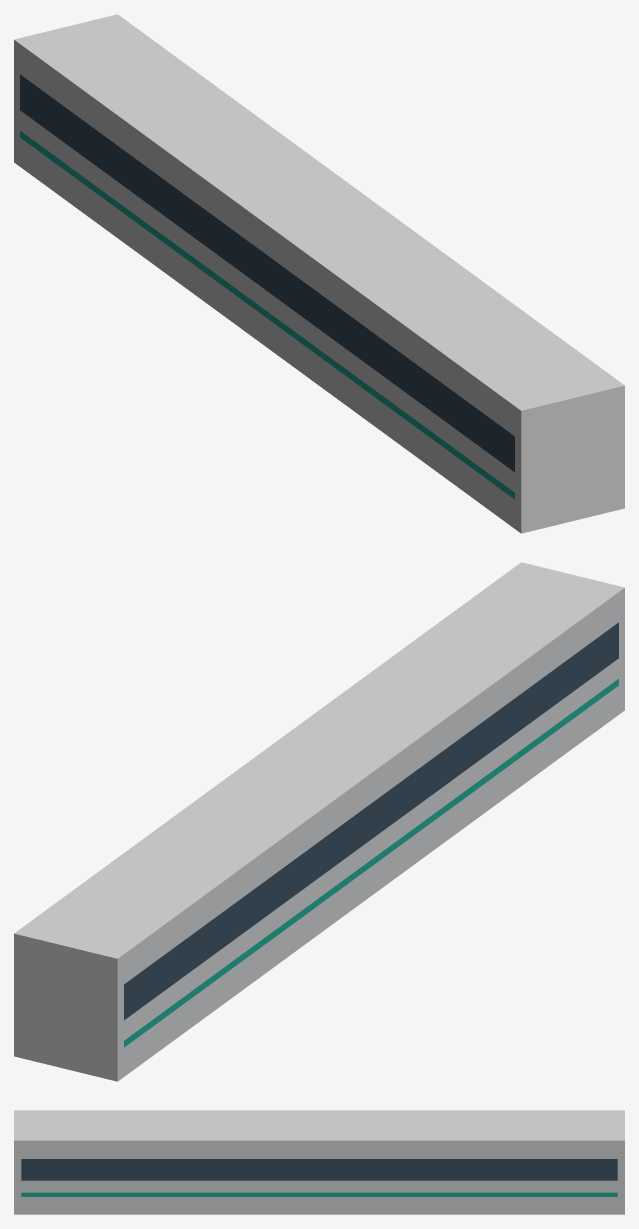
The model's file is 378_far.fbx.
3 renders of one model, top to bottom at view 1: azimuth 30°, elevation 25°; view 2: azimuth 150°, elevation 25°; view 3: azimuth 270°, elevation 25°, orthographic. The views are drawn at different scales.
Visible parts, largest first — view 1: 378_far; view 2: 378_far; view 3: 378_far.
Boxes of the visible parts, <box> form: 378_far: <box>14,14,624,533</box>; 378_far: <box>14,562,624,1081</box>; 378_far: <box>14,1110,624,1214</box>.
Bounding box in the file's own units: 2.96 × 3.34 × 25.
